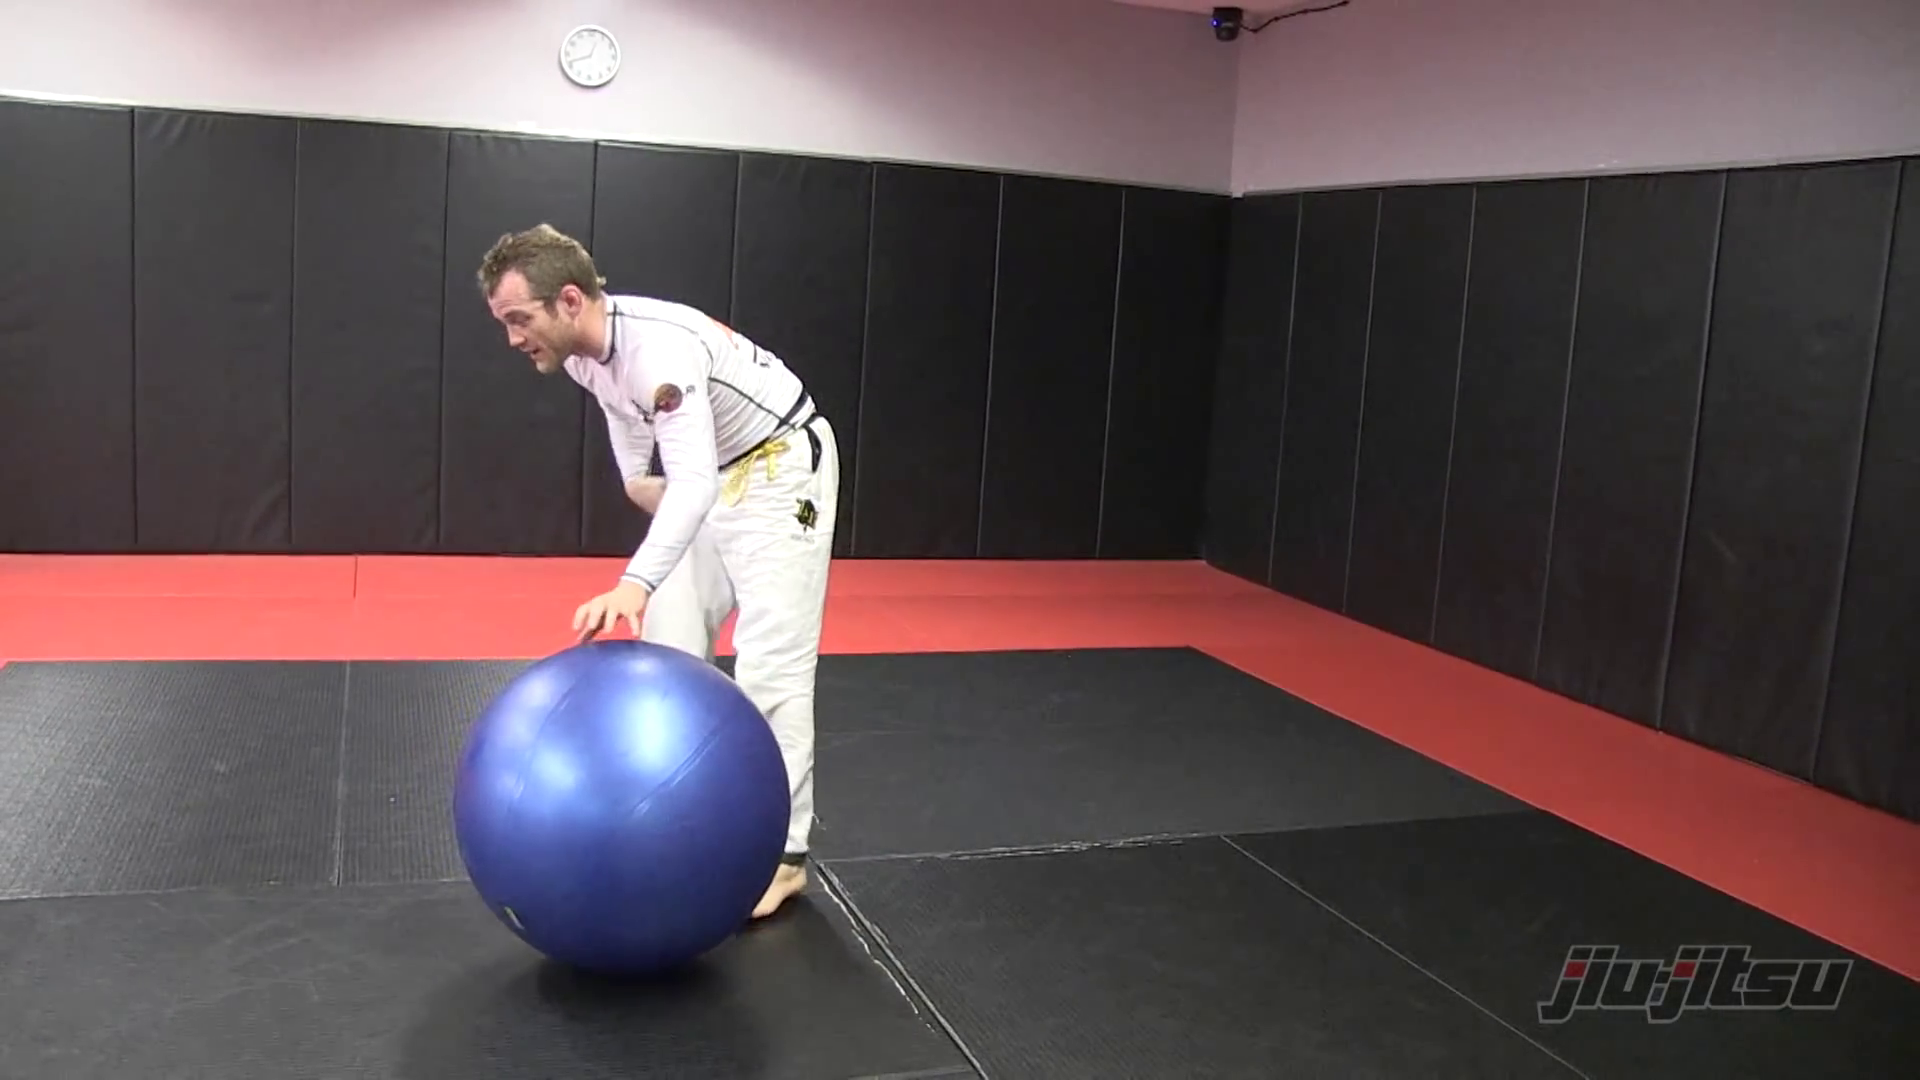yogaball: (443, 630, 789, 989)
